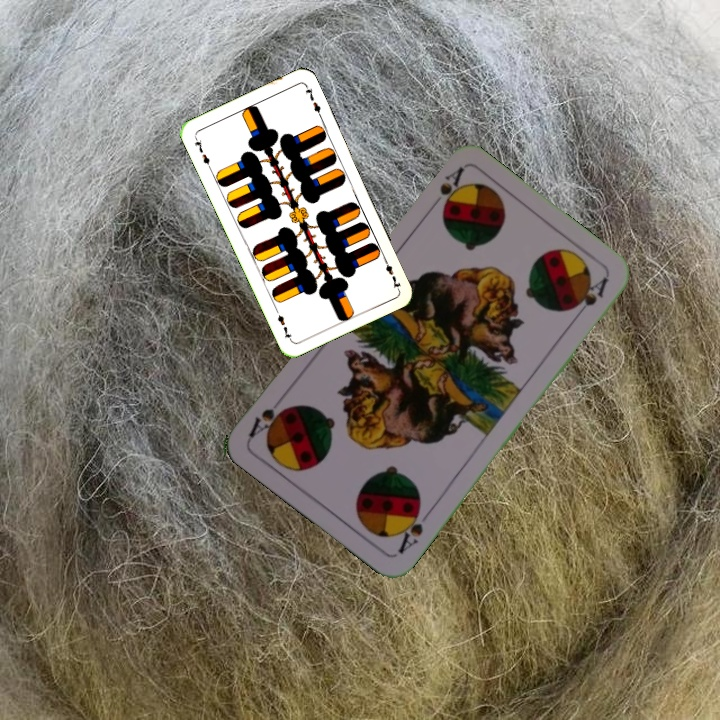E7: (379, 253, 403, 291), (190, 133, 213, 172)
SA: (393, 500, 434, 557), (435, 163, 467, 209)
